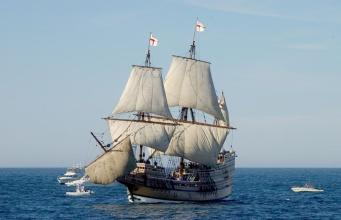fanchuan: (102, 15, 248, 203)
otherboat: (288, 178, 330, 193), (58, 166, 83, 184)
